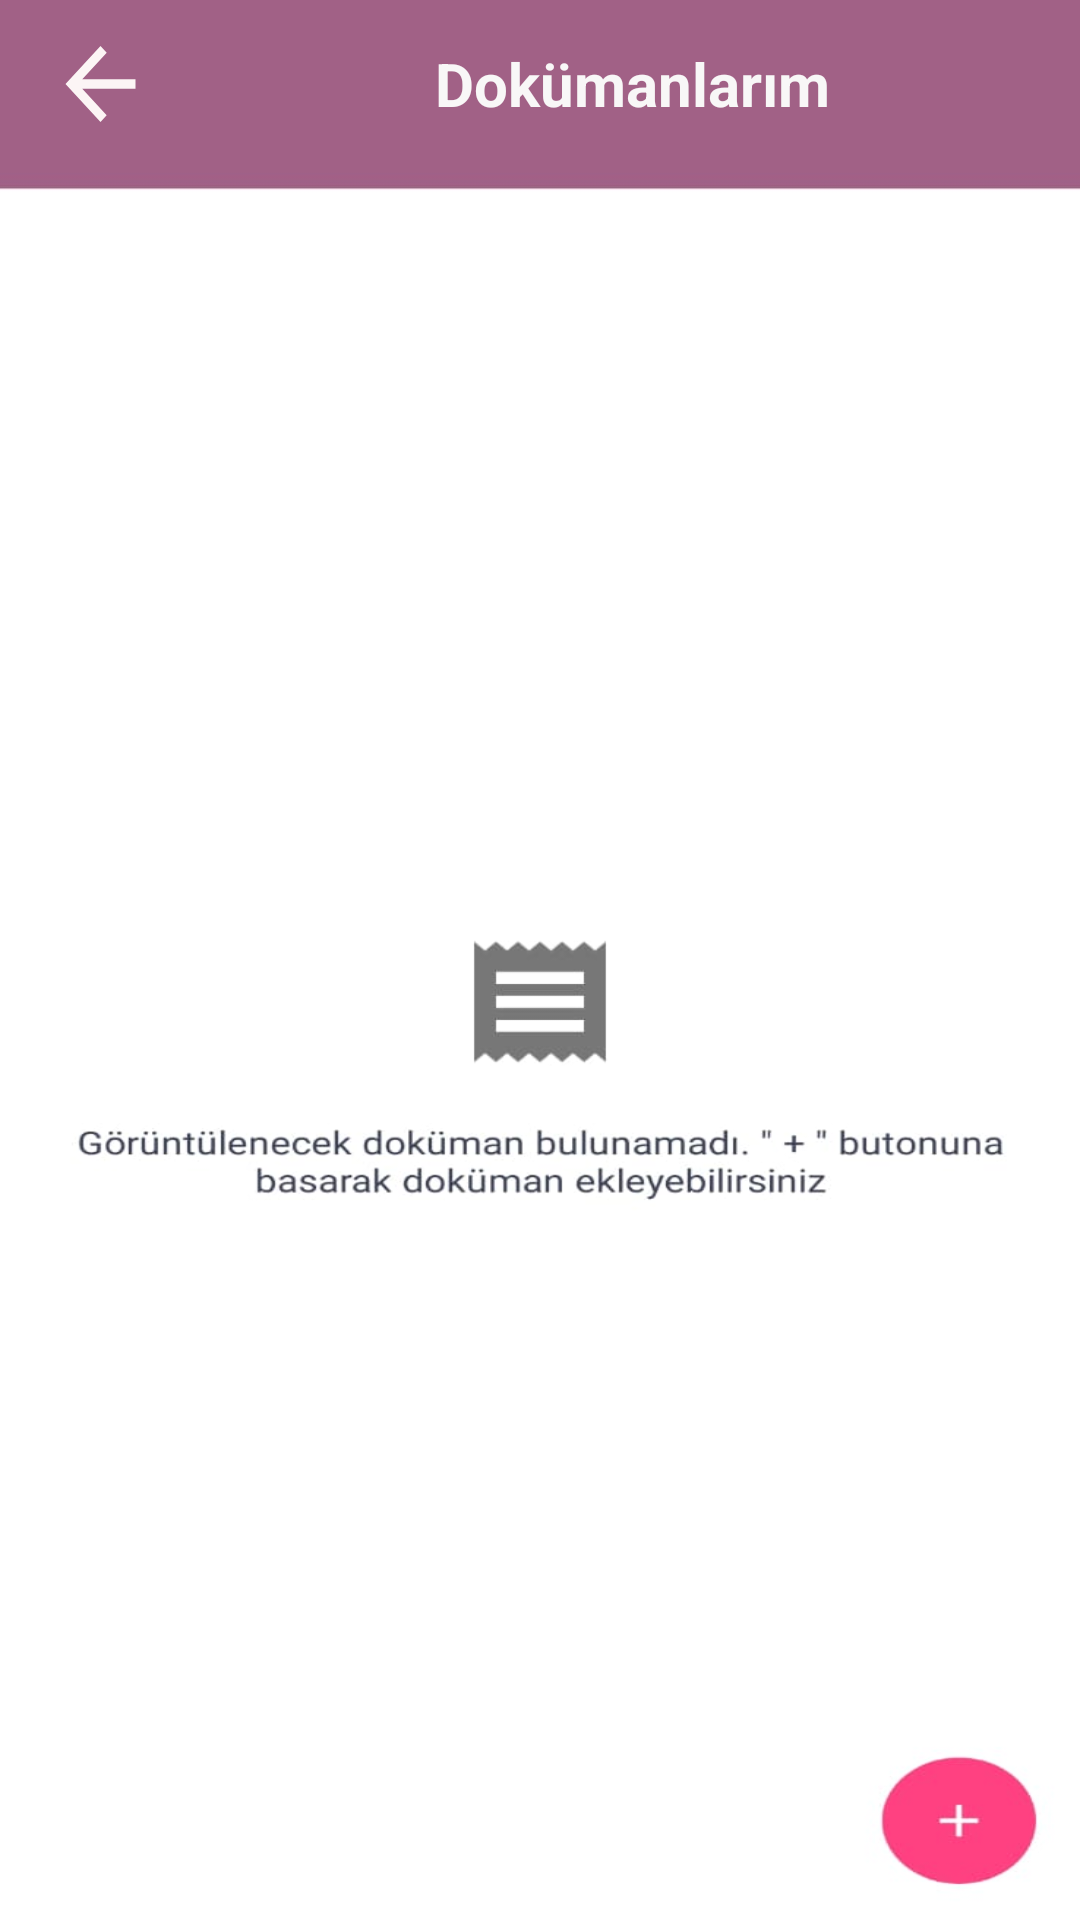

Named icons in this screenshot (1080 x 1920) and their bounding boxes, Rect(x1, y1, x2, y2):
arrow back: Rect(66, 46, 136, 122)
